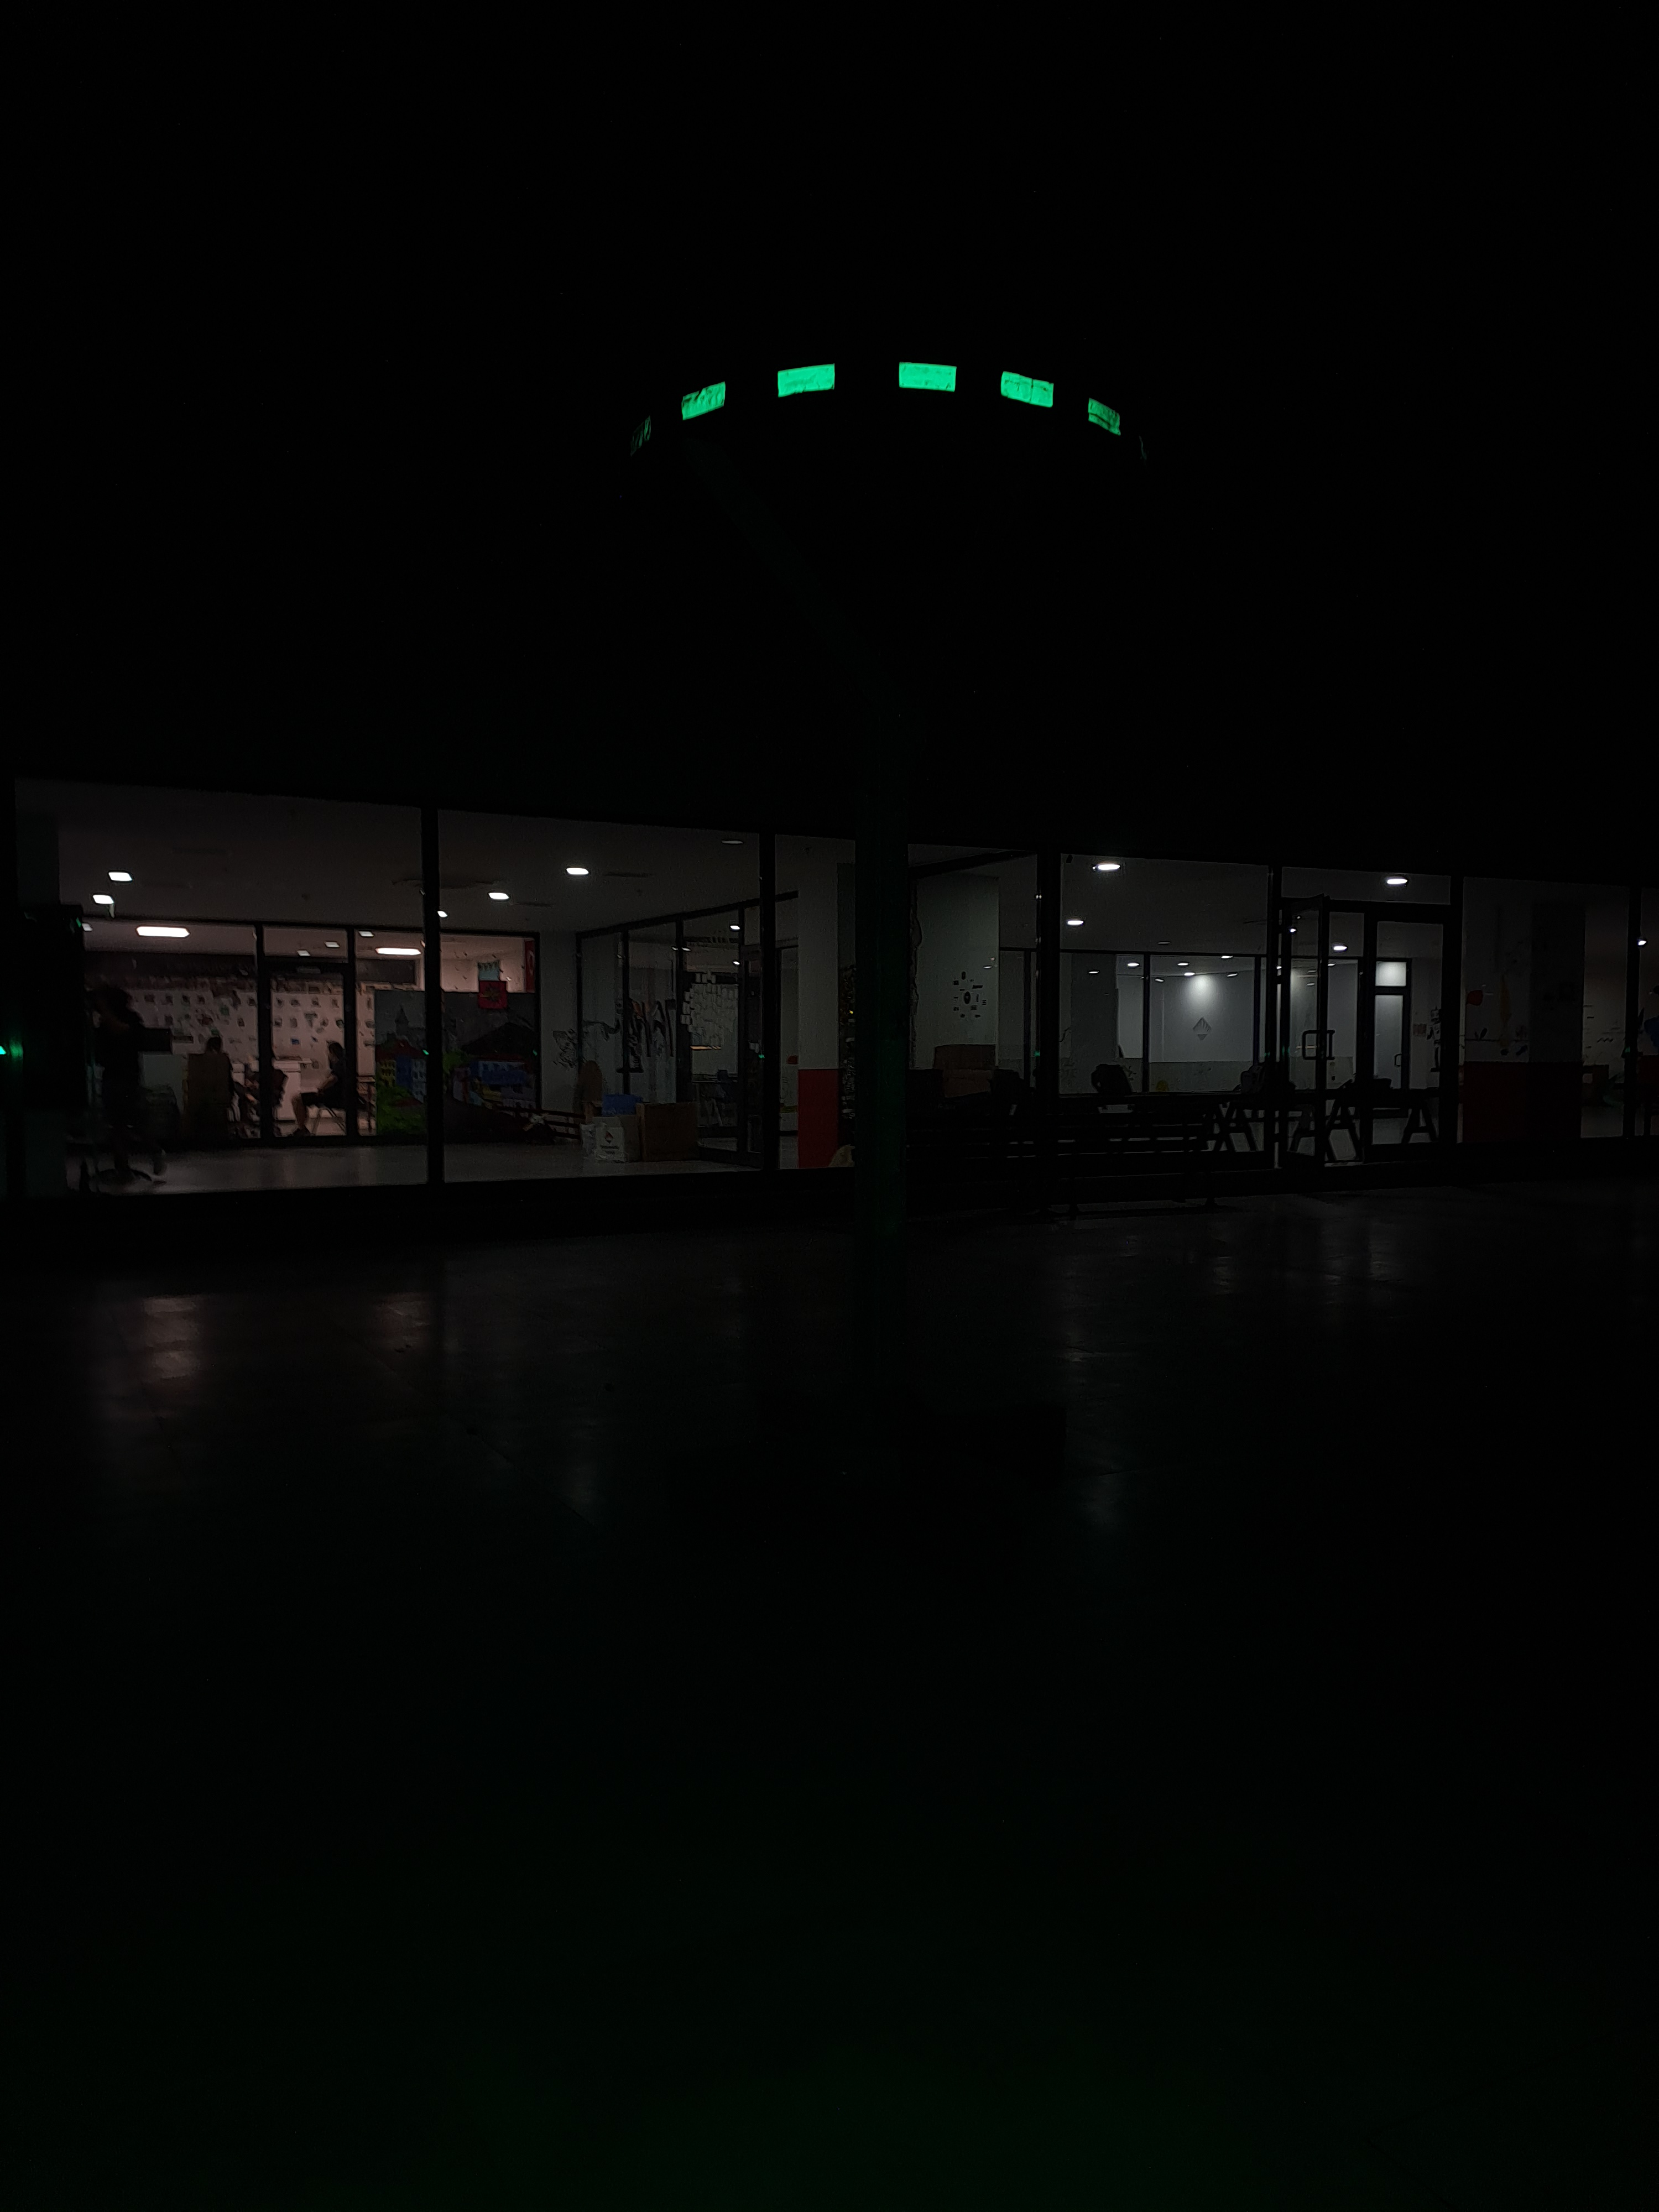hoop: (676, 350, 1122, 467)
